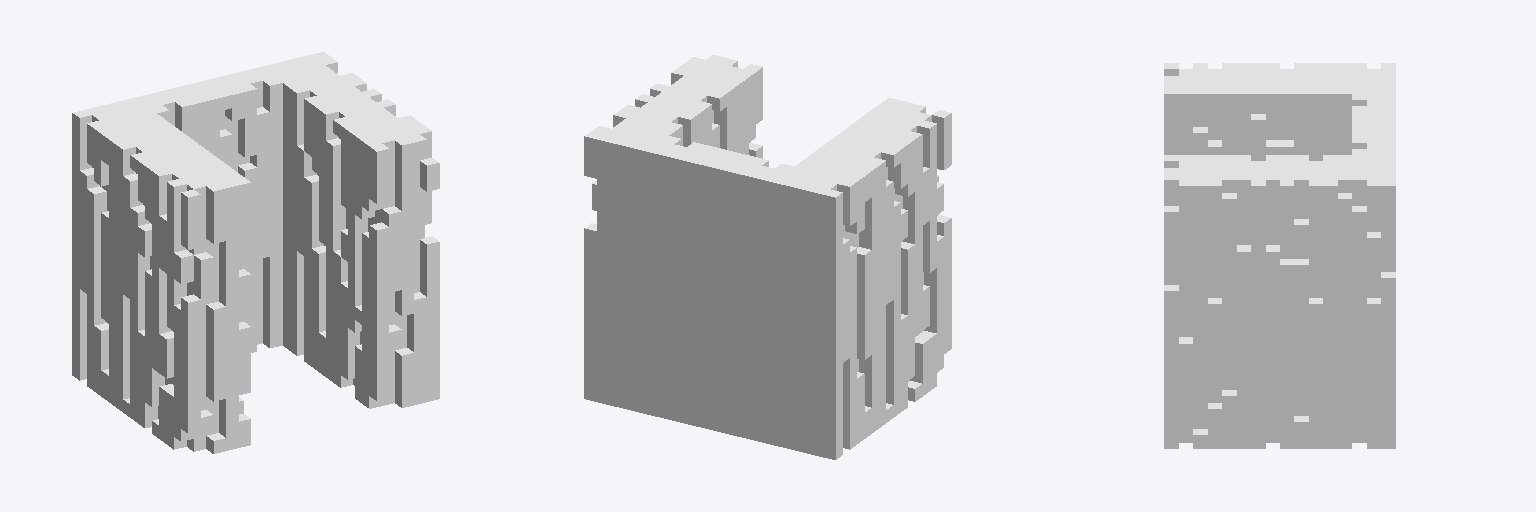
Rendered from Floors-11.obj.
3 renders of one model, left to right at view 1: azimuth 30°, elevation 25°; view 2: azimuth 150°, elevation 25°; view 3: azimuth 270°, elevation 25°, orthographic.
Parts seen in each view (by area): view 1: object 1; view 2: object 1; view 3: object 1.
Boxes of the visible parts, <box> form: object 1: <box>72,52,439,453</box>; object 1: <box>584,55,951,459</box>; object 1: <box>1164,63,1395,448</box>.
Bounding box in the file's own units: 2 × 2 × 1.6.